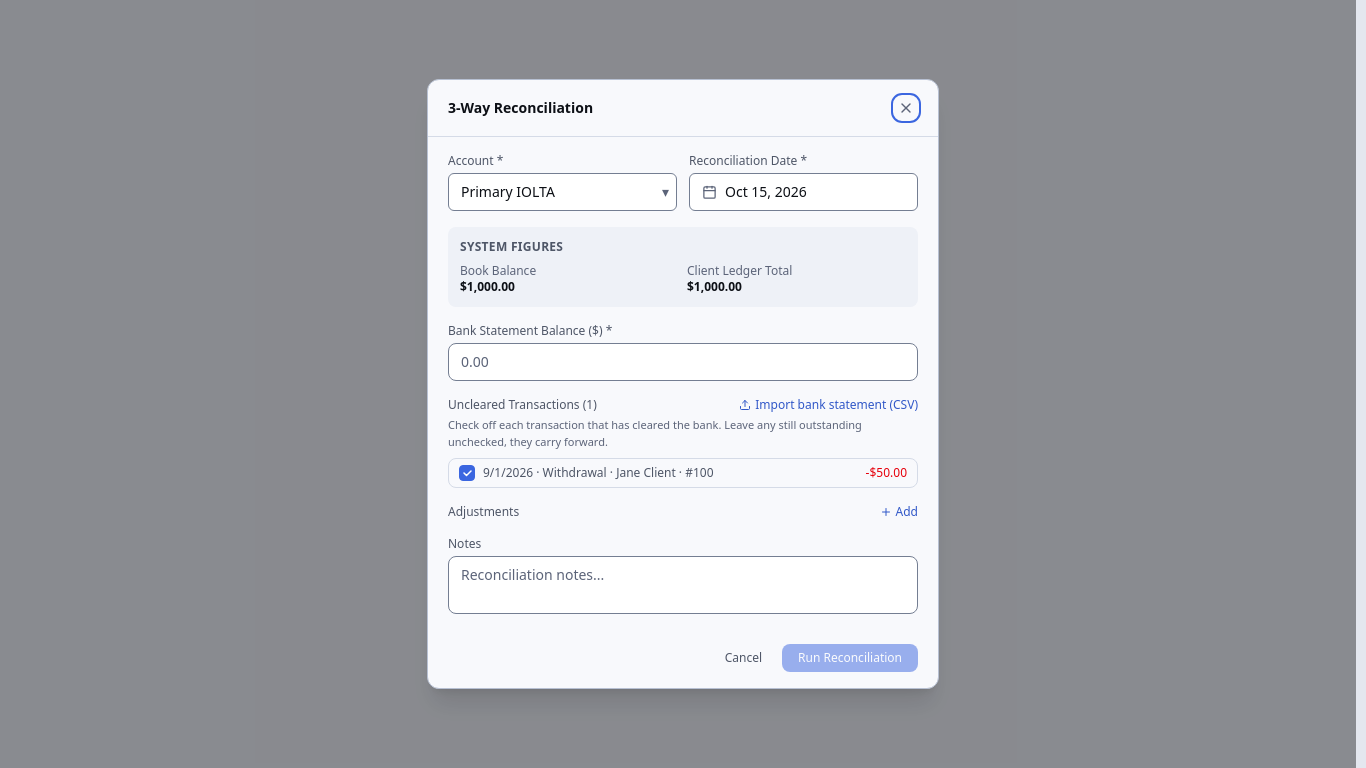
Scenario: the outstanding-transaction sign › adds an outstanding WITHDRAWAL back to the expected bank balance
Expected: the text "Book Balance" is shown, [460,262,536,279]
Click the checkbox: (683, 473) [449,459,917,487]
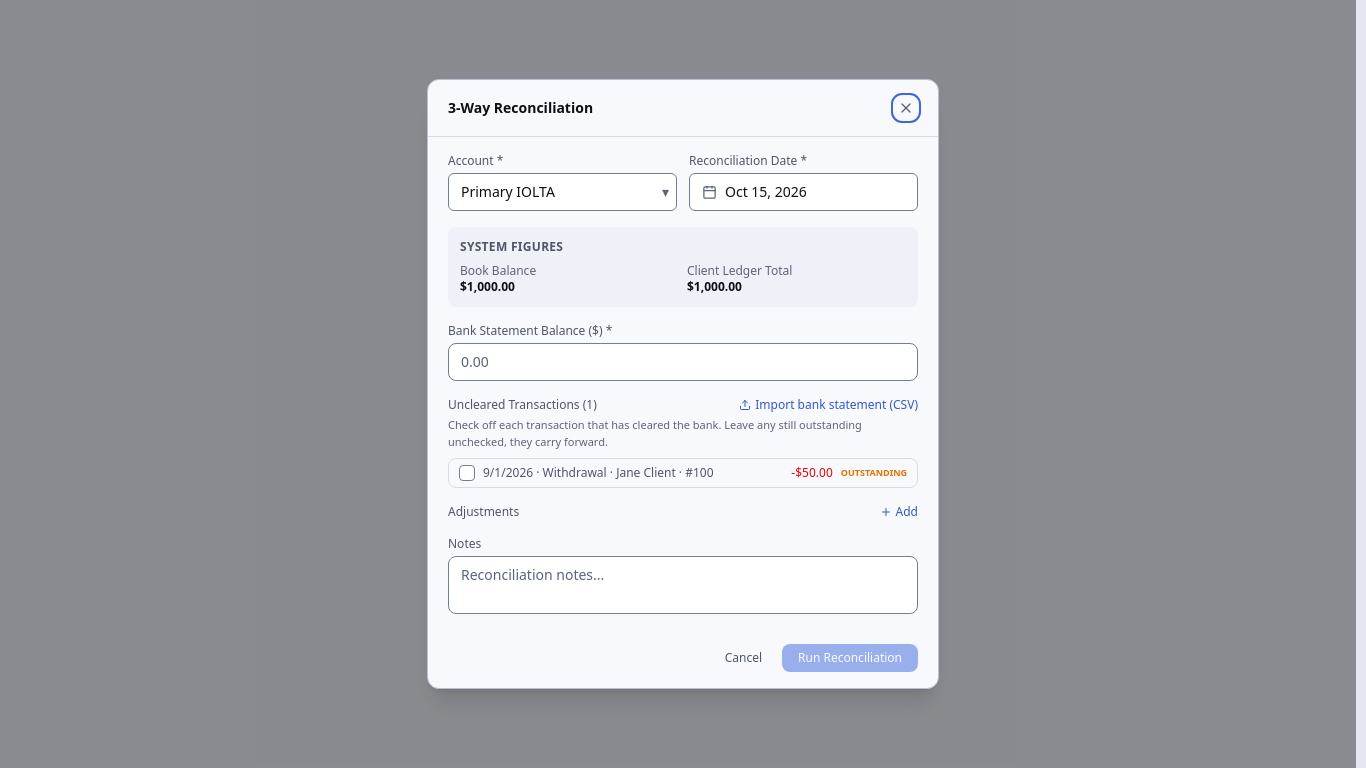
In the number field labelled "Bank Statement Balance ($) *": (683, 362) [448,343,918,381], type "1050.00"
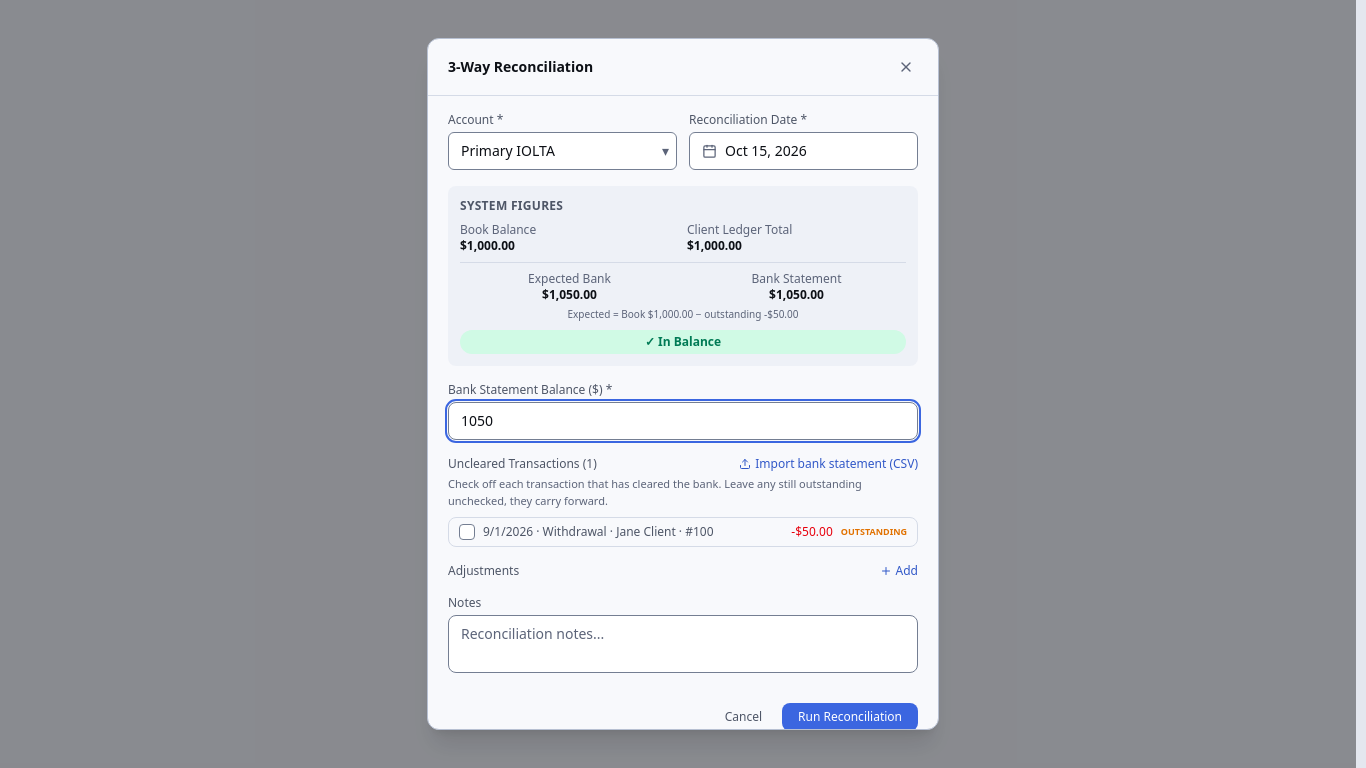
Expected: the text "✓ In Balance" is shown, [460,330,906,354]
